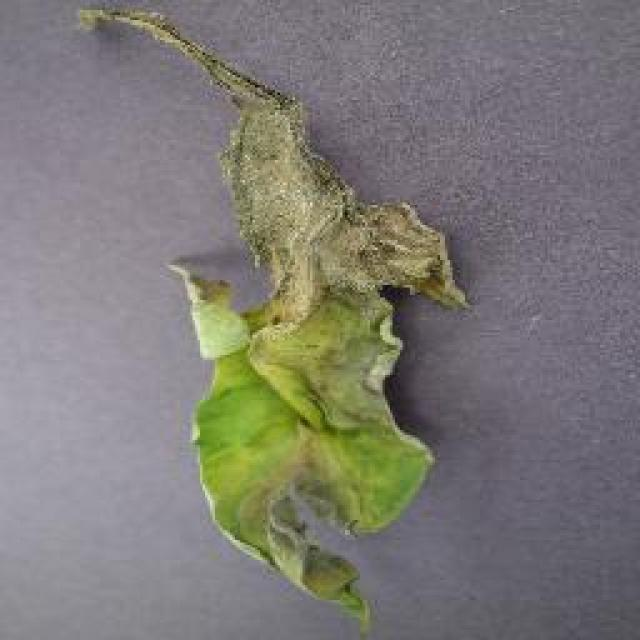Tomato Late Blight: (105, 14, 517, 384)
